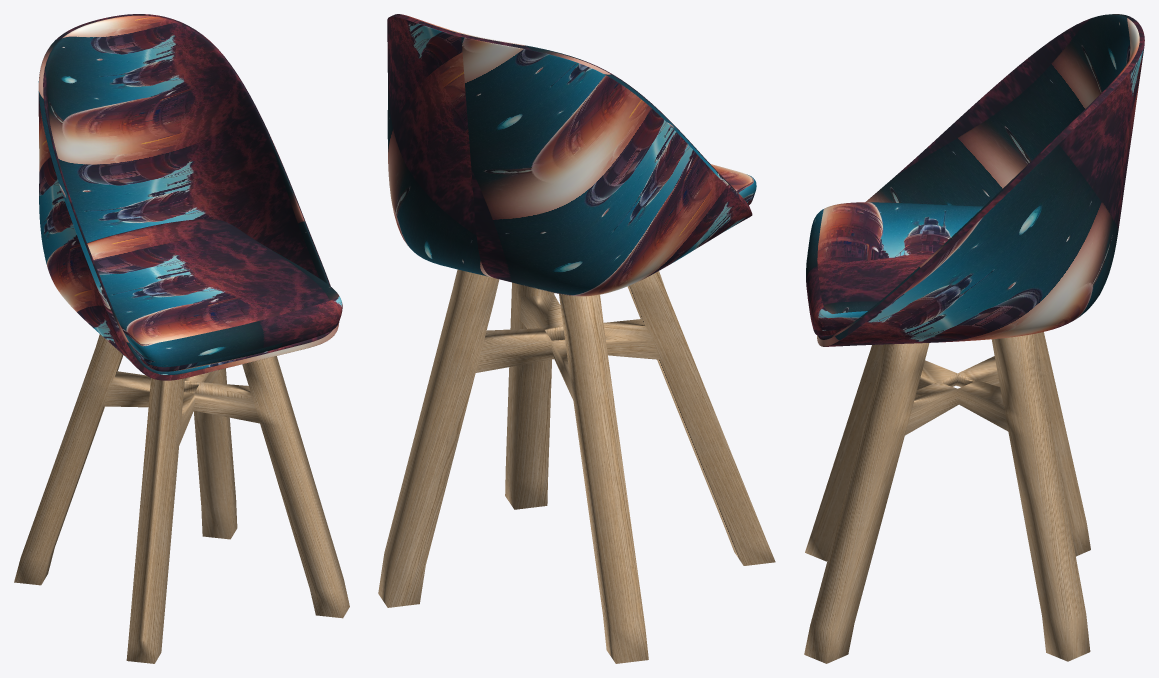
The model's file is Chair.gltf.
The picture shows the model from 3 angles, left to right: view 1: azimuth 30°, elevation 25°; view 2: azimuth 150°, elevation 25°; view 3: azimuth 270°, elevation 25°; orthographic projection. The views are drawn at different scales.
Parts seen in each view (by area): view 1: Cube, Cube.002, Cube.003; view 2: Cube, Cube.002, Cube.003; view 3: Cube, Cube.002, Cube.003.
Boxes of the visible parts, x1,y1,x2,y2 form: Cube: (38,14,339,380); Cube.002: (14,334,349,663); Cube.003: (87,219,342,371); Cube: (387,14,752,296); Cube.002: (378,269,775,663); Cube.003: (710,164,756,204); Cube: (817,14,1144,346); Cube.002: (804,332,1090,663); Cube.003: (806,202,983,336).
Size of the model in its own units: 1.76 by 3.76 by 2.05.
2 materials, 2 textured.
